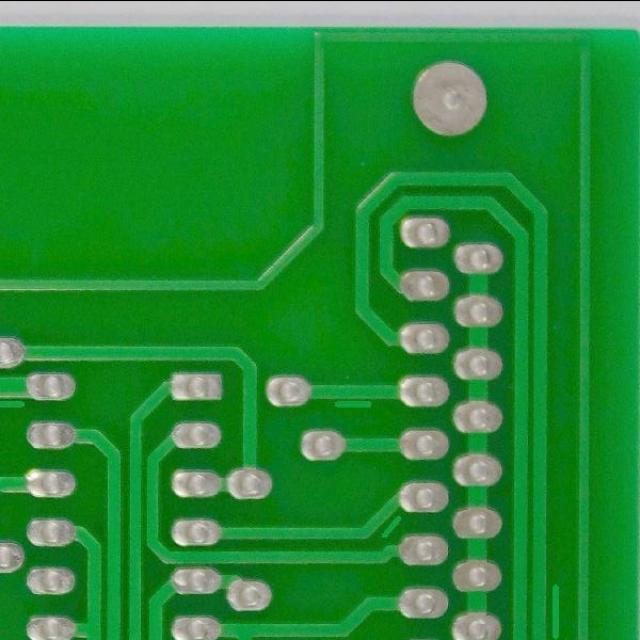Spurious_Cooper: (373, 509, 410, 544), (548, 578, 566, 639), (329, 397, 376, 412), (0, 395, 30, 414)
